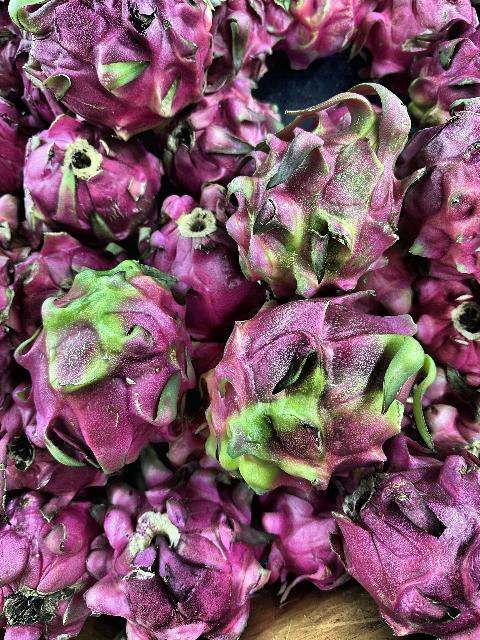buah-naga-belum-matang: (197, 292, 435, 484), (226, 85, 416, 287), (28, 261, 198, 465), (404, 29, 480, 119)
buah-naga-matang: (92, 466, 270, 640), (332, 458, 480, 634), (8, 0, 224, 120), (21, 107, 157, 243), (1, 476, 104, 640), (384, 104, 480, 270), (137, 183, 247, 313), (158, 86, 286, 190)
